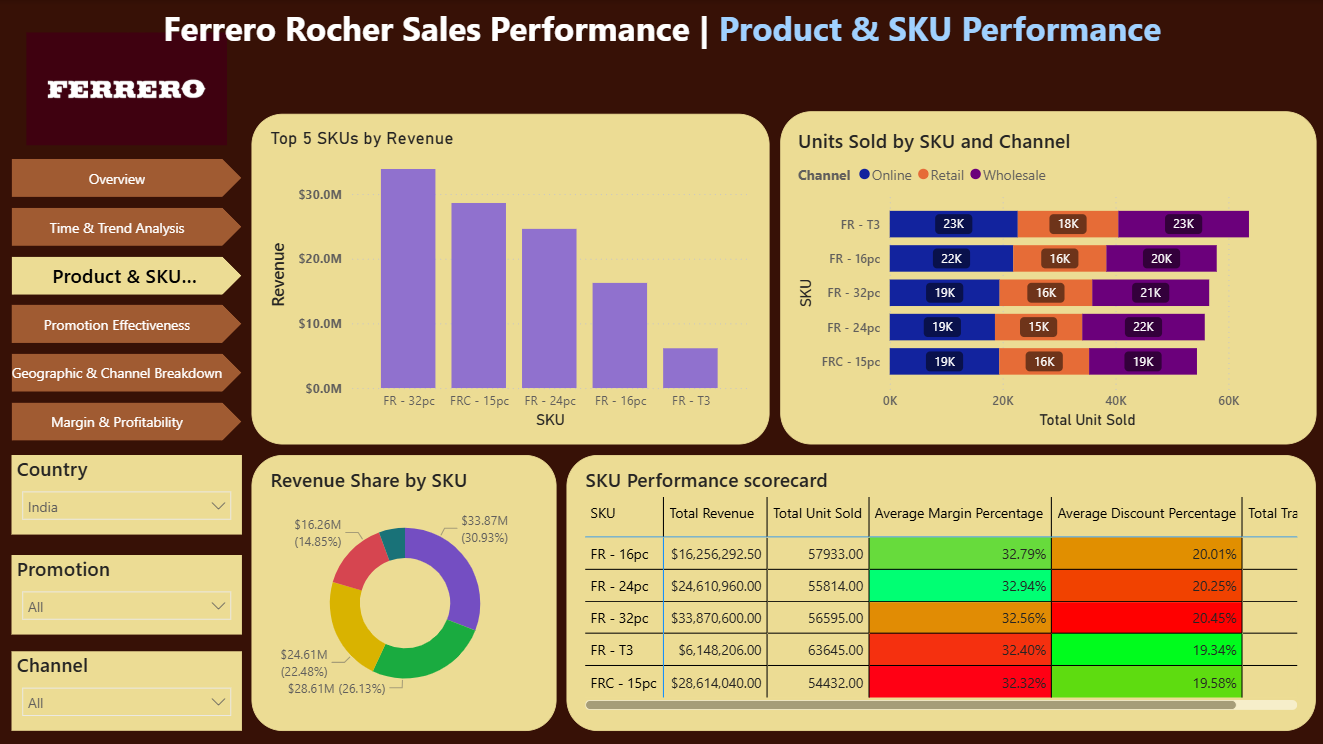

Layout of this report page (visuals, bound fields, positions):
{"tool":"powerbi","page":{"name":"Product & SKU Performance","canvas":[1280,720],"ordinal":2},"visuals":[{"type":"shape","box":[243.7,109.8,500,319.4],"z":0},{"type":"shape","box":[753.8,107.3,517.7,322],"z":1000},{"type":"shape","box":[548,439.4,723.5,266.4],"z":2000},{"type":"slicer","title":"Promotion","fields":{"Values":["Sales.Promotion"]},"box":[12.6,535.3,222.2,77],"z":3000},{"type":"slicer","title":"Country","fields":{"Values":["Sales.Country"]},"box":[12.6,439.4,222.2,77],"z":4000},{"type":"slicer","title":"Channel","fields":{"Values":["Sales.Channel"]},"box":[12.6,628.8,222.2,77],"z":5000},{"type":"image","box":[12.6,31.6,222.2,108.6],"z":6000},{"type":"pageNavigator","box":[12.6,152.8,222.2,276.5],"z":7000},{"type":"textbox","box":[0,0,1280.3,53],"z":8000},{"type":"pivotTable","title":"SKU Performance scorecard","fields":{"Rows":["Sales.SKU"],"Values":["Sales.Total Revenue","Sales.Total Unit Sold","Sales.Average Margin","Sales.Average Discount","Sales.Total Transaction"]},"box":[560.6,449.5,696.9,239.9],"z":9000},{"type":"shape","box":[243.7,439.4,294.2,266.4],"z":10000},{"type":"donutChart","title":"Revenue Share by SKU","fields":{"Y":["Sales.Total Revenue"],"Category":["Sales.SKU"]},"box":[257.6,449.5,270.2,239.9],"z":11000},{"type":"columnChart","title":"Top 5 SKUs by Revenue","fields":{"Category":["Sales.SKU"],"Y":["Sales.Total Revenue"]},"box":[257.6,122.5,470.9,295.4],"z":12000},{"type":"barChart","title":"Units Sold by SKU and Channel","fields":{"Category":["Sales.SKU"],"Y":["Sales.Total Unit Sold"],"Series":["Sales.Channel"]},"box":[766.4,122.5,491.1,295.4],"z":13000}]}

Visuals, with their boxes in screenshot pixels (x1, y1, x2, y2), scaled from the page's 1280x720 canvas onto the 1323x744 screenshot:
shape: (x1=252, y1=113, x2=769, y2=444)
shape: (x1=779, y1=111, x2=1314, y2=444)
shape: (x1=566, y1=454, x2=1314, y2=729)
"Promotion" slicer: (x1=13, y1=553, x2=243, y2=633)
"Country" slicer: (x1=13, y1=454, x2=243, y2=534)
"Channel" slicer: (x1=13, y1=650, x2=243, y2=729)
image: (x1=13, y1=33, x2=243, y2=145)
pageNavigator: (x1=13, y1=158, x2=243, y2=444)
textbox: (x1=0, y1=0, x2=1322, y2=55)
"SKU Performance scorecard" pivotTable: (x1=579, y1=464, x2=1300, y2=712)
shape: (x1=252, y1=454, x2=556, y2=729)
"Revenue Share by SKU" donutChart: (x1=266, y1=464, x2=546, y2=712)
"Top 5 SKUs by Revenue" columnChart: (x1=266, y1=127, x2=753, y2=432)
"Units Sold by SKU and Channel" barChart: (x1=792, y1=127, x2=1300, y2=432)
